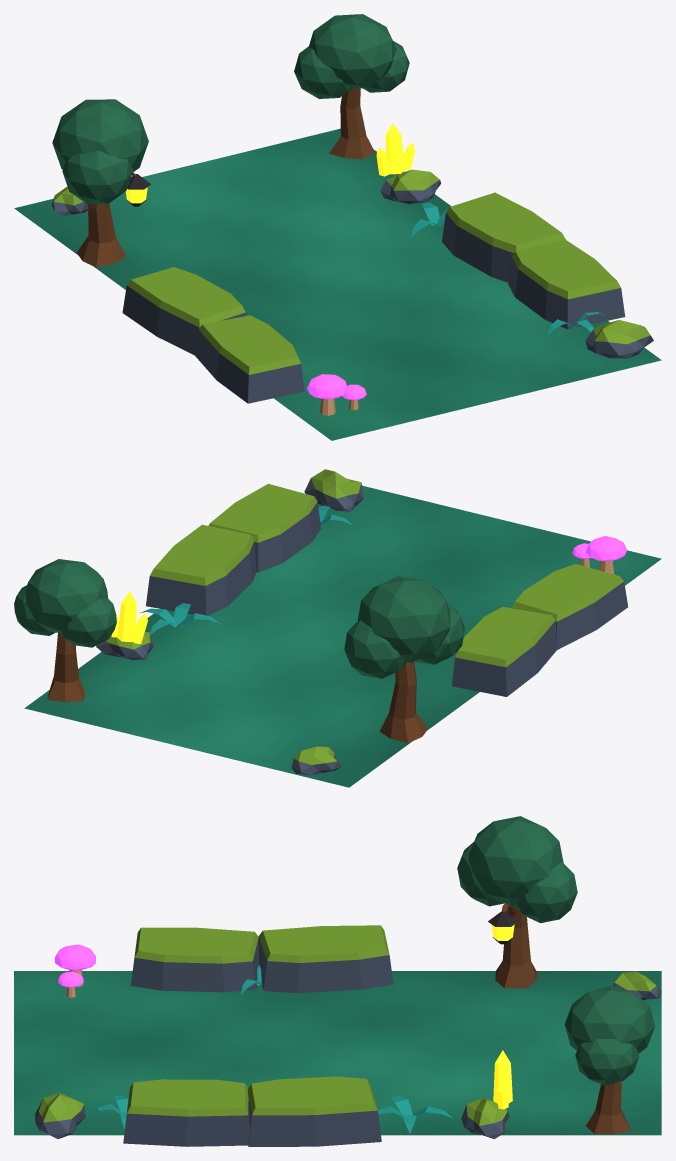
The model's file is field-dark-forest.glb.
The picture shows the model from 3 angles, top to bottom: view 1: azimuth 30°, elevation 25°; view 2: azimuth 150°, elevation 25°; view 3: azimuth 270°, elevation 25°; orthographic projection. The views are drawn at different scales.
Visible parts, largest first — view 1: DF_Ground, DF_Tree_L1, DF_Tree_R1, DF_Bank_R1, DF_Bank_L1, DF_Bank_L2, DF_Bank_R2, DF_Rock_BR, DF_Rock_R1, DF_Mushroom_BL, DF_Crystal_R, DF_Rock_TL; view 2: DF_Ground, DF_Tree_L1, DF_Tree_R1, DF_Bank_R2, DF_Bank_L2, DF_Bank_L1, DF_Bank_R1, DF_Rock_BR, DF_Mushroom_BL, DF_Crystal_R, DF_Rock_TL, DF_Rock_R1 (+1 smaller); view 3: DF_Ground, DF_Tree_L1, DF_Bank_R2, DF_Bank_L2, DF_Bank_R1, DF_Tree_R1, DF_Bank_L1, DF_Rock_BR, DF_Rock_R1, DF_Mushroom_BL, DF_Crystal_R, DF_Rock_TL (+2 smaller).
Boxes of the visible parts, left/top/right/bottom form: DF_Ground: left=14, top=128, right=661, bottom=440; DF_Tree_L1: left=52, top=99, right=148, bottom=267; DF_Tree_R1: left=294, top=14, right=409, bottom=159; DF_Bank_R1: left=508, top=239, right=625, bottom=329; DF_Bank_L1: left=194, top=315, right=304, bottom=403; DF_Bank_L2: left=122, top=267, right=246, bottom=355; DF_Bank_R2: left=442, top=192, right=565, bottom=282; DF_Rock_BR: left=585, top=320, right=653, bottom=358; DF_Rock_R1: left=380, top=169, right=440, bottom=204; DF_Mushroom_BL: left=306, top=374, right=366, bottom=415; DF_Crystal_R: left=376, top=123, right=415, bottom=176; DF_Rock_TL: left=51, top=186, right=87, bottom=215; DF_Ground: left=24, top=485, right=661, bottom=787; DF_Tree_L1: left=344, top=576, right=464, bottom=742; DF_Tree_R1: left=14, top=559, right=116, bottom=702; DF_Bank_R2: left=146, top=524, right=256, bottom=615; DF_Bank_L2: left=452, top=606, right=556, bottom=696; DF_Bank_L1: left=511, top=564, right=627, bottom=649; DF_Bank_R1: left=208, top=483, right=321, bottom=572; DF_Rock_BR: left=304, top=469, right=363, bottom=511; DF_Mushroom_BL: left=572, top=536, right=626, bottom=574; DF_Crystal_R: left=111, top=591, right=147, bottom=643; DF_Rock_TL: left=291, top=746, right=342, bottom=775; DF_Rock_R1: left=96, top=631, right=153, bottom=660; DF_Ground: left=14, top=971, right=661, bottom=1135; DF_Tree_L1: left=457, top=816, right=577, bottom=988; DF_Bank_R2: left=247, top=1076, right=381, bottom=1146; DF_Bank_L2: left=258, top=925, right=393, bottom=993; DF_Bank_R1: left=123, top=1079, right=249, bottom=1146; DF_Tree_R1: left=564, top=985, right=655, bottom=1134; DF_Bank_L1: left=131, top=927, right=258, bottom=992; DF_Rock_BR: left=35, top=1093, right=86, bottom=1138; DF_Rock_R1: left=461, top=1098, right=509, bottom=1139; DF_Mushroom_BL: left=55, top=944, right=95, bottom=997; DF_Crystal_R: left=493, top=1050, right=512, bottom=1109; DF_Rock_TL: left=613, top=971, right=661, bottom=999.
Size of the model in its own units: 14.32 by 5.37 by 20.01.
